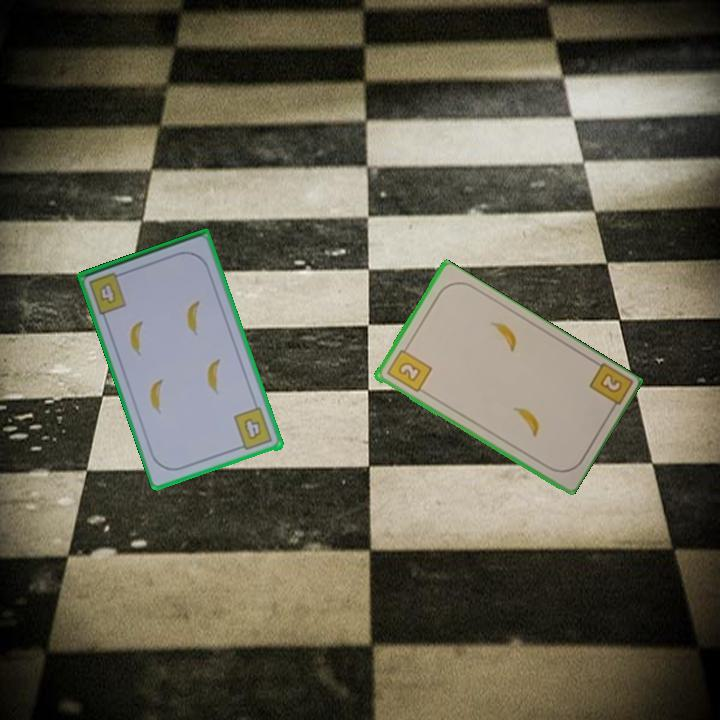2b: (585, 360, 633, 417), (383, 342, 434, 395)
4b: (230, 404, 276, 453), (96, 279, 119, 307)
